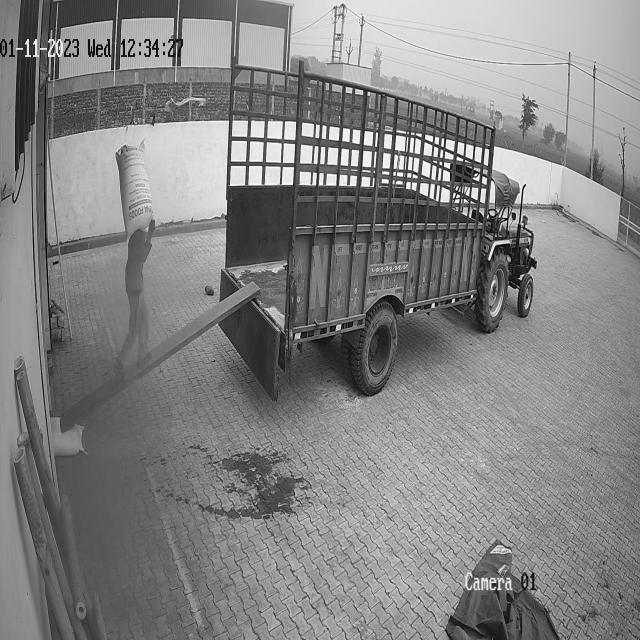sack: (115, 140, 152, 240), (49, 416, 84, 455)
